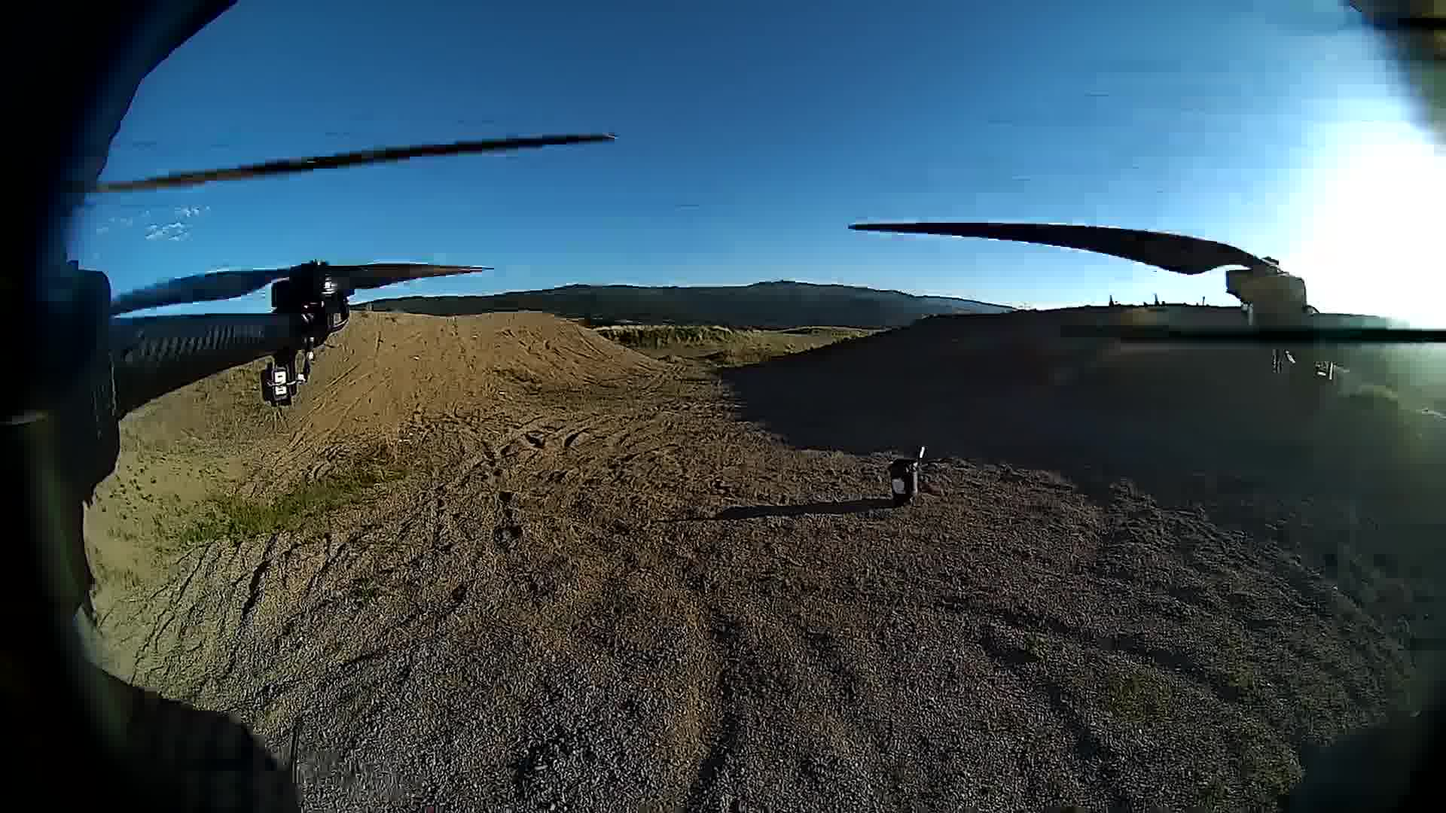Target: (891, 479, 905, 495)
